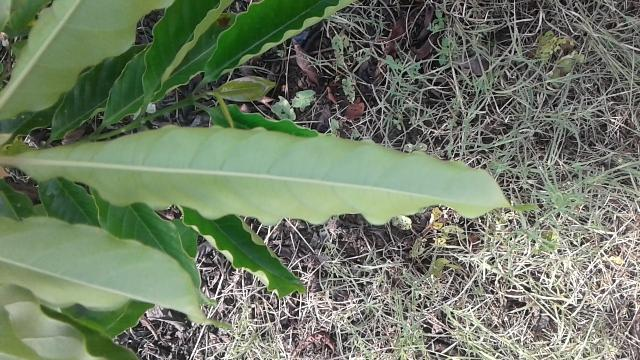healthy: (10, 124, 538, 228)
